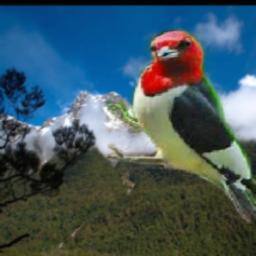Woodpecker: (109, 29, 256, 225)
